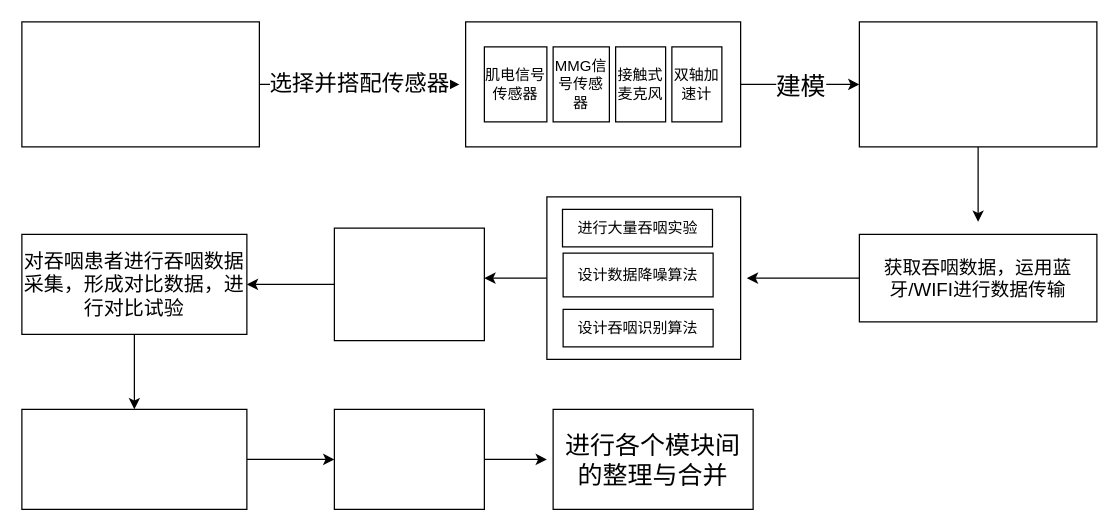
Image size: 1119x531. Some labels were removed from this diagram. The shapes that lost their labels are listed below. From the top down, each one's centre as x and y in pixels, then its label:
the point at 140,84: 查看实验和论文 理解实验原理
the point at 977,84: 可穿戴设备的设计
the point at 408,284: 通过数据集对算法进行优化
the point at 134,458: 构建深度学习的神经网络 对吞咽过程进行准确评估
the point at 408,458: 设计用户使用界面：患者/医护人员
